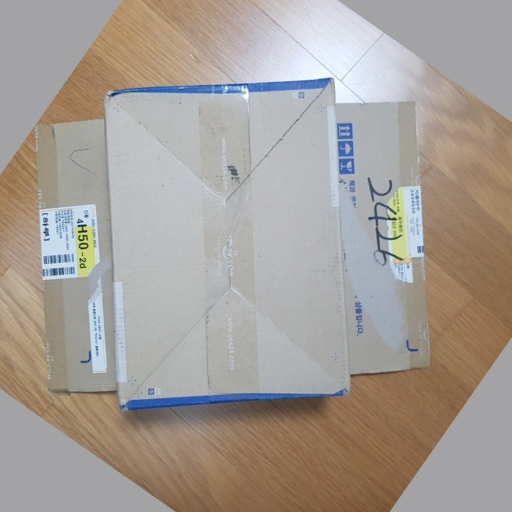Paper_0: (34, 76, 437, 410)
